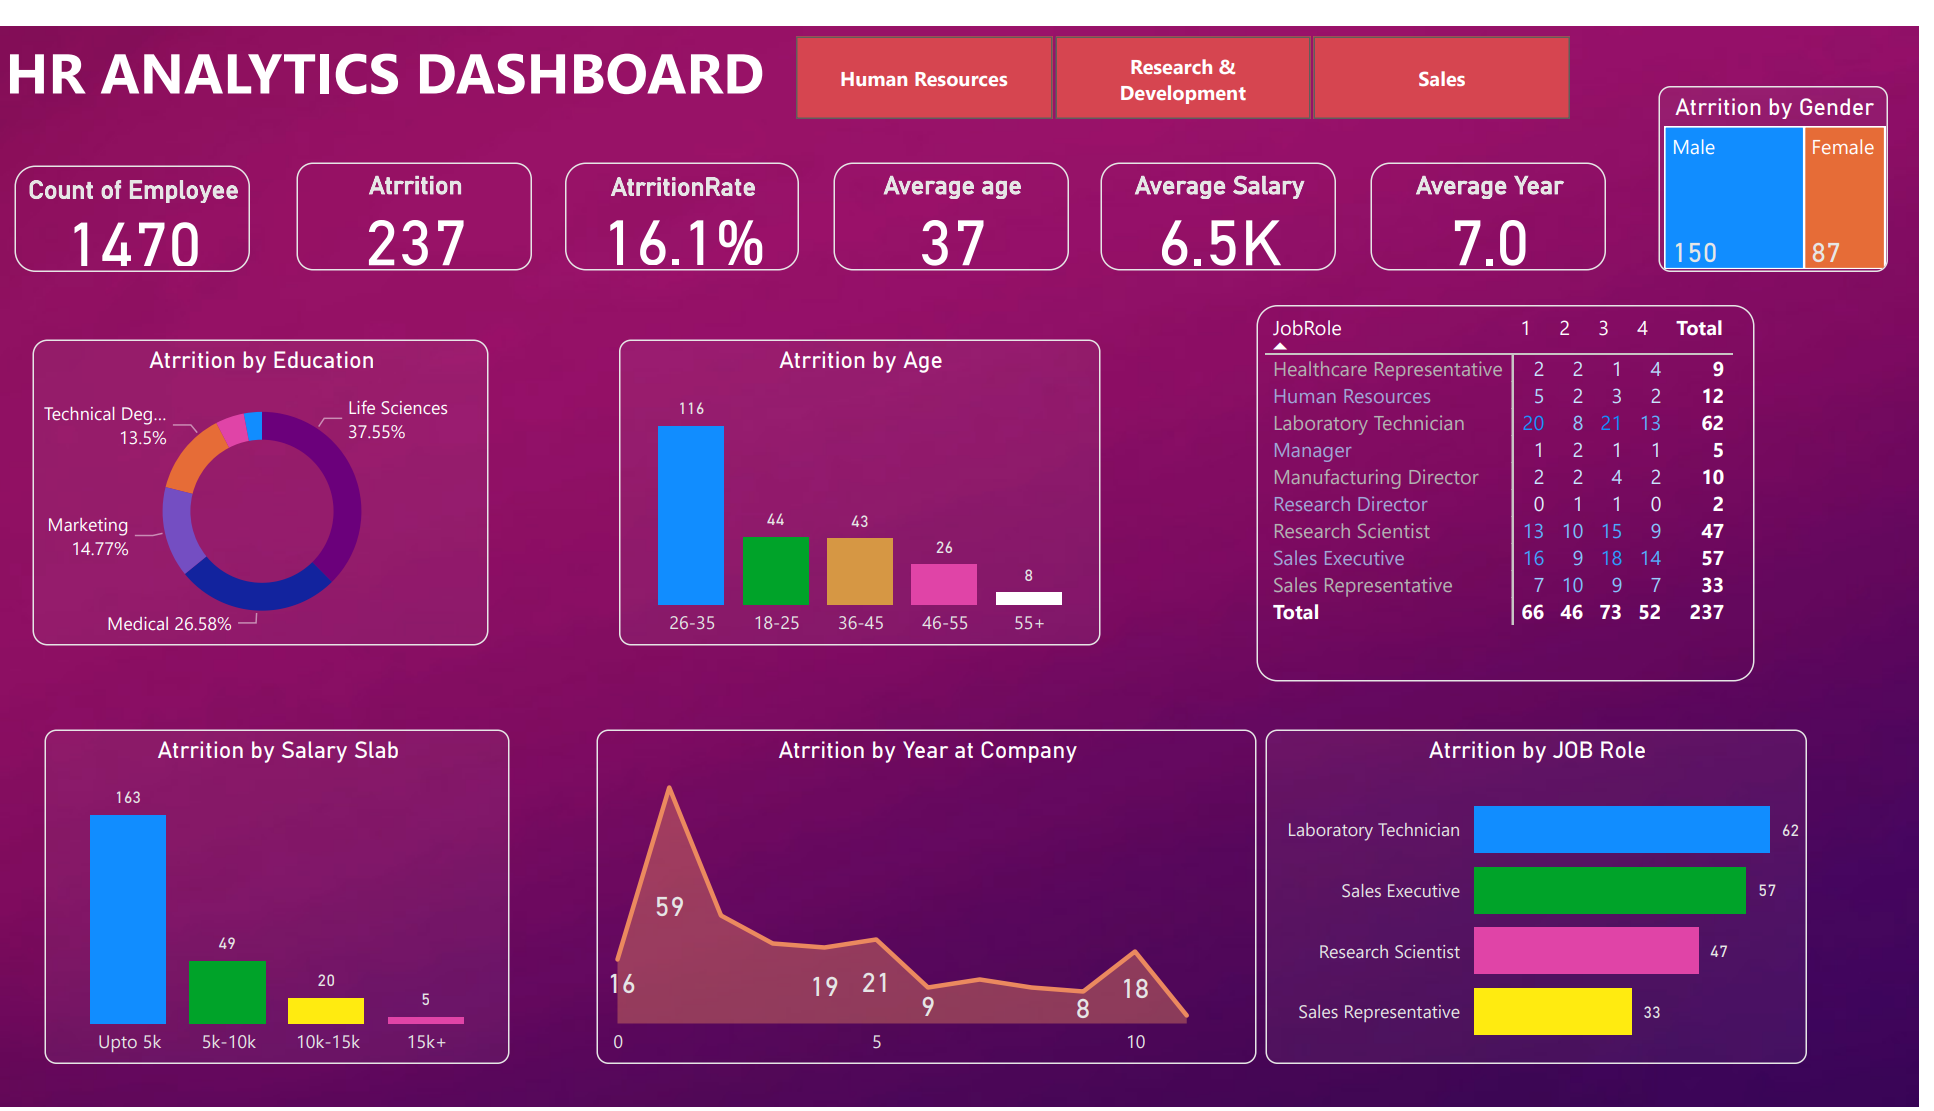

What the dashboard file says about the page in this screenshot:
{"tool":"powerbi","page":{"name":"Page 1","canvas":[1280,720],"ordinal":0},"visuals":[{"type":"card","title":"Count of Employee","fields":{"Values":["CountNonNull(HR_Analytics.EmpID)"]},"box":[10.7,93.2,157.5,70.3],"z":0},{"type":"card","title":"Average Year","fields":{"Values":["Avg(HR_Analytics.YearsAtCompany)"]},"box":[915,91.2,156.6,71.3],"z":1000},{"type":"card","title":"Average Salary","fields":{"Values":["Avg(HR_Analytics.MonthlyIncome)"]},"box":[735.5,91.2,156.6,71.3],"z":2000},{"type":"card","title":"Average age","fields":{"Values":["Avg(HR_Analytics.Age)"]},"box":[557.2,91.2,156.6,71.3],"z":3000},{"type":"card","title":"AtrritionRate","fields":{"Values":["HR_Analytics.AtrritionRate"]},"box":[377.7,91.2,156.6,71.3],"z":4000},{"type":"card","title":"Atrrition","fields":{"Values":["Sum(HR_Analytics.AtrritionCount)"]},"box":[199.5,91.2,156.6,71.3],"z":5000},{"type":"donutChart","title":"Atrrition by Education","fields":{"Category":["HR_Analytics.EducationField"],"Y":["Sum(HR_Analytics.AtrritionCount)"]},"box":[22.9,208.8,304.3,203.7],"z":6000},{"type":"clusteredColumnChart","title":"Atrrition by Age","fields":{"Category":["HR_Analytics.AgeGroup"],"Y":["Sum(HR_Analytics.AtrritionCount)"]},"box":[414.3,209.4,321,203.3],"z":7000},{"type":"pivotTable","title":"Atrrition by Age","fields":{"Rows":["HR_Analytics.JobRole"],"Columns":["HR_Analytics.JobSatisfaction"],"Values":["Sum(HR_Analytics.AtrritionCount)"]},"box":[839,185.9,332.3,250.8],"z":8000},{"type":"clusteredColumnChart","title":"Atrrition by Salary Slab","fields":{"Y":["Sum(HR_Analytics.AtrritionCount)"],"Category":["HR_Analytics.SalarySlab"]},"box":[30.6,469.3,310.3,223.2],"z":9000},{"type":"clusteredBarChart","title":"Atrrition by JOB Role","fields":{"Category":["HR_Analytics.JobRole","HR_Analytics.SalarySlab"],"Y":["Sum(HR_Analytics.AtrritionCount)"]},"box":[845.4,469.3,360.8,223.2],"z":10000},{"type":"stackedAreaChart","title":"Atrrition by Year at Company","fields":{"Category":["HR_Analytics.YearsAtCompany"],"Y":["Sum(HR_Analytics.AtrritionCount)"]},"box":[399,469.3,440.3,223.2],"z":11000},{"type":"treemap","title":"Atrrition by Gender","fields":{"Group":["HR_Analytics.Gender"],"Values":["Sum(HR_Analytics.AtrritionCount)"]},"box":[1106.8,39.7,152.9,123.8],"z":12000},{"type":"slicer","fields":{"Values":["HR_Analytics.Department"]},"box":[506,0,565.6,68.8],"z":13000},{"type":"textbox","box":[0,0,574.8,73.4],"z":14000}]}

Visuals, with their boxes in screenshot pixels (x1, y1, x2, y2), scaled from the page's 1280x720 canvas onto the 1934x1111 screenshot:
"Count of Employee" card: box=[16, 144, 254, 252]
"Average Year" card: box=[1383, 141, 1619, 251]
"Average Salary" card: box=[1111, 141, 1348, 251]
"Average age" card: box=[842, 141, 1079, 251]
"AtrritionRate" card: box=[571, 141, 807, 251]
"Atrrition" card: box=[301, 141, 538, 251]
"Atrrition by Education" donutChart: box=[35, 322, 494, 637]
"Atrrition by Age" clusteredColumnChart: box=[626, 323, 1111, 637]
"Atrrition by Age" pivotTable: box=[1268, 287, 1770, 674]
"Atrrition by Salary Slab" clusteredColumnChart: box=[46, 724, 515, 1069]
"Atrrition by JOB Role" clusteredBarChart: box=[1277, 724, 1822, 1069]
"Atrrition by Year at Company" stackedAreaChart: box=[603, 724, 1268, 1069]
"Atrrition by Gender" treemap: box=[1672, 61, 1903, 252]
slicer - HR_Analytics.Department: box=[765, 0, 1619, 106]
textbox: box=[0, 0, 868, 113]
